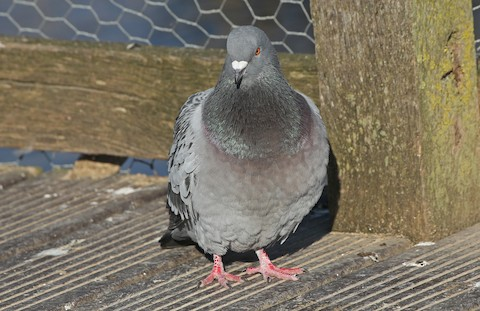pigeon: (152, 17, 334, 294)
